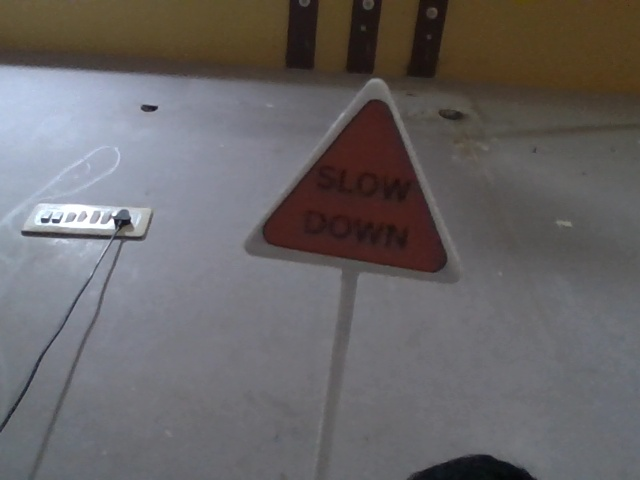slowdown: (233, 75, 460, 288)
